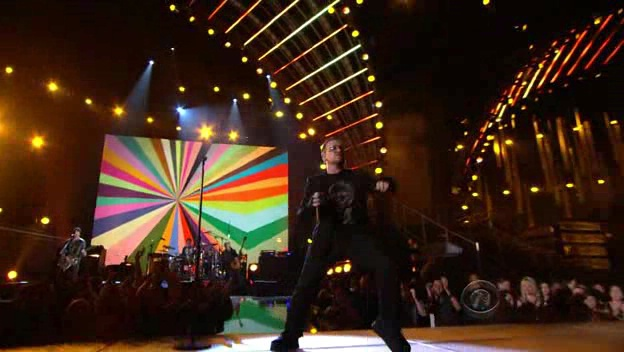person: (309, 142, 375, 260), (306, 142, 372, 260), (312, 142, 378, 260), (309, 139, 375, 257), (309, 145, 375, 263)
target_negative: (231, 96, 485, 316), (116, 132, 504, 244), (124, 220, 593, 275), (407, 97, 530, 188), (197, 277, 562, 282), (429, 343, 492, 352)
